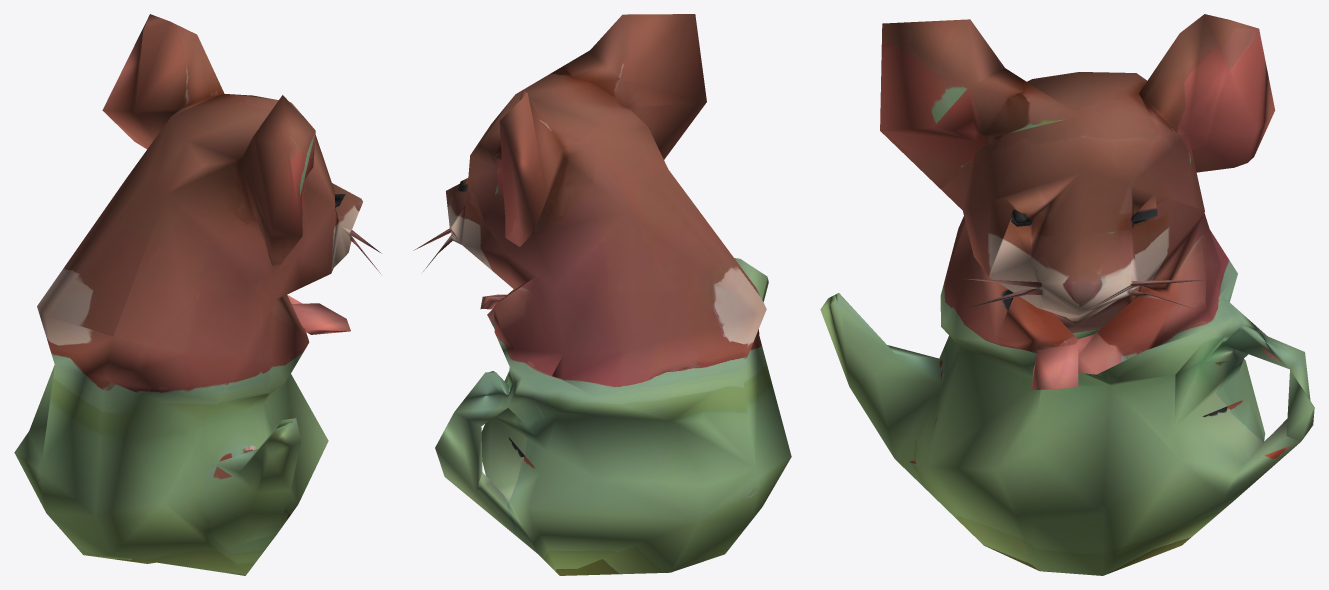
Rendered from dormouse.glb.
3 views of the same model, side by side, from view 1: azimuth 30°, elevation 25°; view 2: azimuth 150°, elevation 25°; view 3: azimuth 270°, elevation 25° (orthographic). The views are drawn at different scales.
Visible parts, largest first — view 1: tripo_node_6e2c1fdf-3b73-4be9-b5ed-f43a381f5c33; view 2: tripo_node_6e2c1fdf-3b73-4be9-b5ed-f43a381f5c33; view 3: tripo_node_6e2c1fdf-3b73-4be9-b5ed-f43a381f5c33.
Part boxes in pixels (<box>): tripo_node_6e2c1fdf-3b73-4be9-b5ed-f43a381f5c33: <box>14,14,381,575</box>; tripo_node_6e2c1fdf-3b73-4be9-b5ed-f43a381f5c33: <box>413,14,791,575</box>; tripo_node_6e2c1fdf-3b73-4be9-b5ed-f43a381f5c33: <box>820,14,1314,575</box>.
Size of the model in its own units: 0.6892 by 0.9956 by 0.8204.
1 material, 1 textured.
